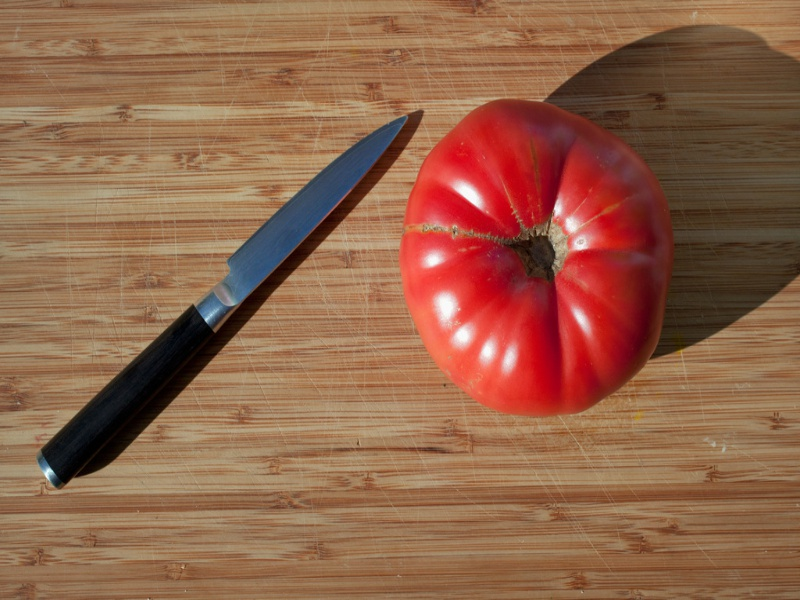knife: (35, 114, 410, 496)
